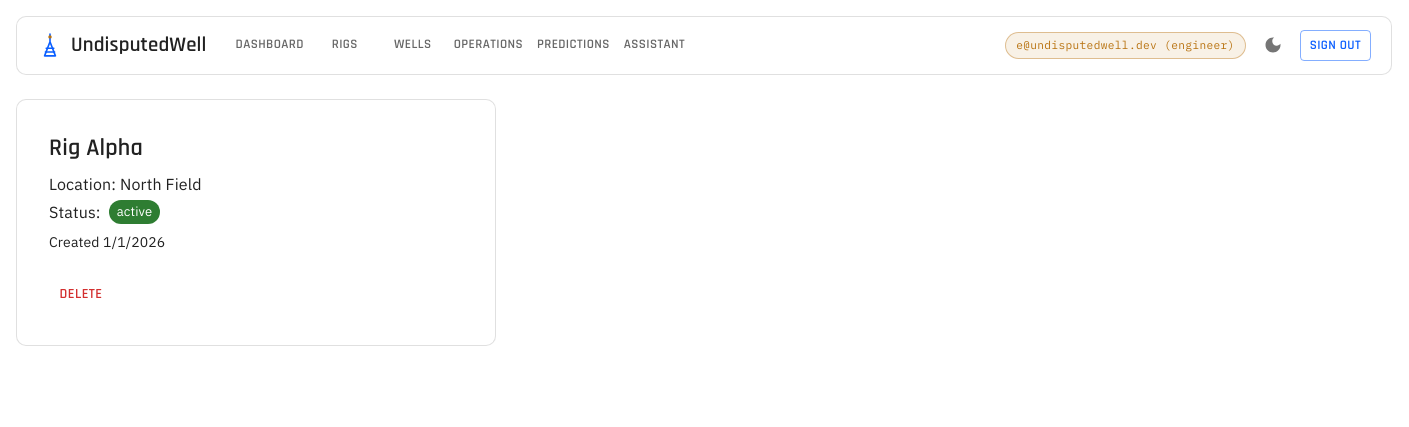
RigDetailPage › shows a delete-error alert when the delete request fails
Expected: the heading "Rig Alpha" is shown, [49,133,143,163]
Click the button "Delete" at (81, 294), box [49,276,113,313]
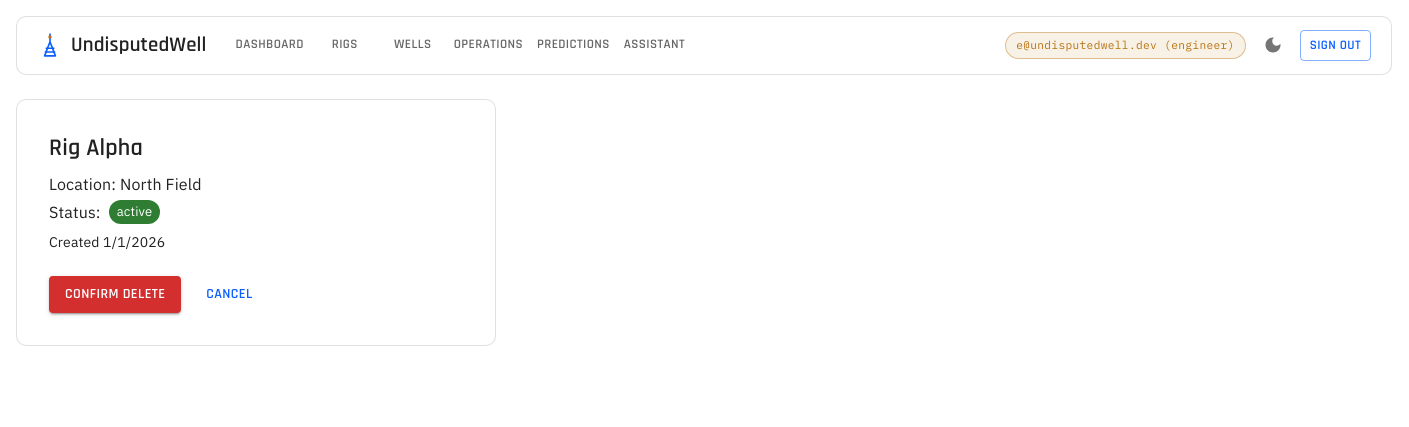
Click the button with test id "confirm-delete-rig" at (115, 294), box [49,276,182,313]
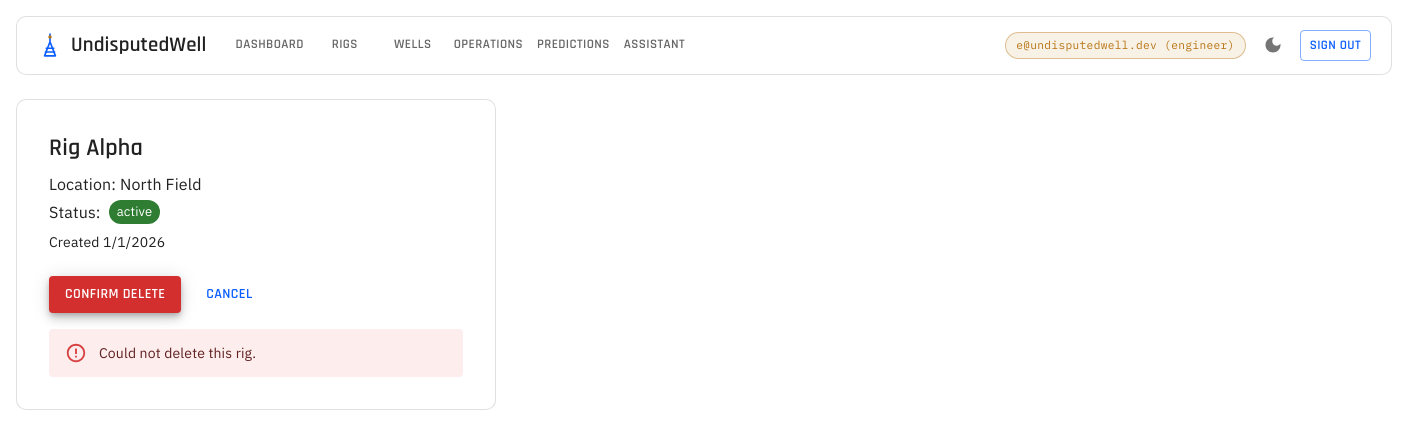
Expected: the message "Could not delete this rig." is shown, [49,329,463,377]
